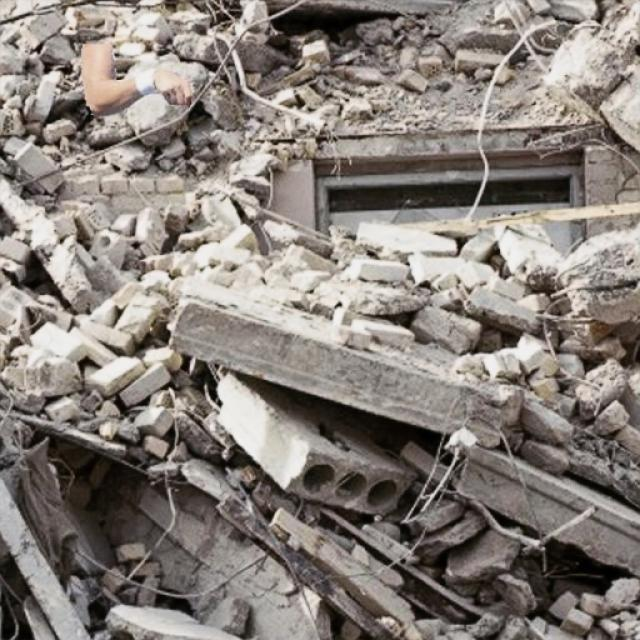Person in Rubble: (80, 44, 192, 116)
